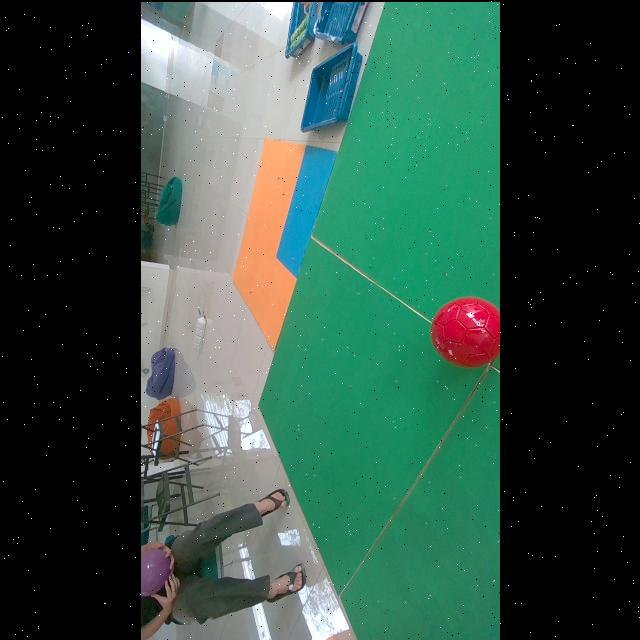P: (140, 548, 170, 595)
